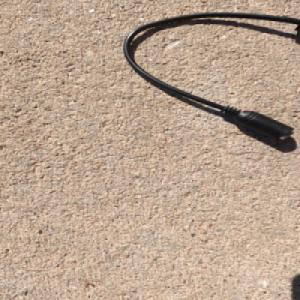Wire: (120, 10, 300, 141)
